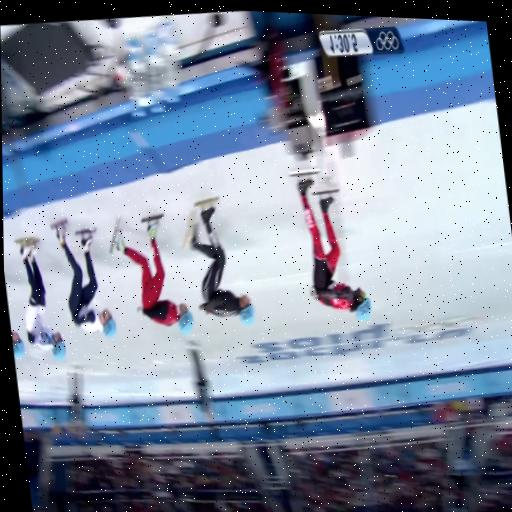Skater: (298, 178, 370, 319), (111, 214, 193, 332), (184, 197, 255, 324), (51, 220, 116, 337), (16, 238, 65, 359), (11, 330, 24, 357)
